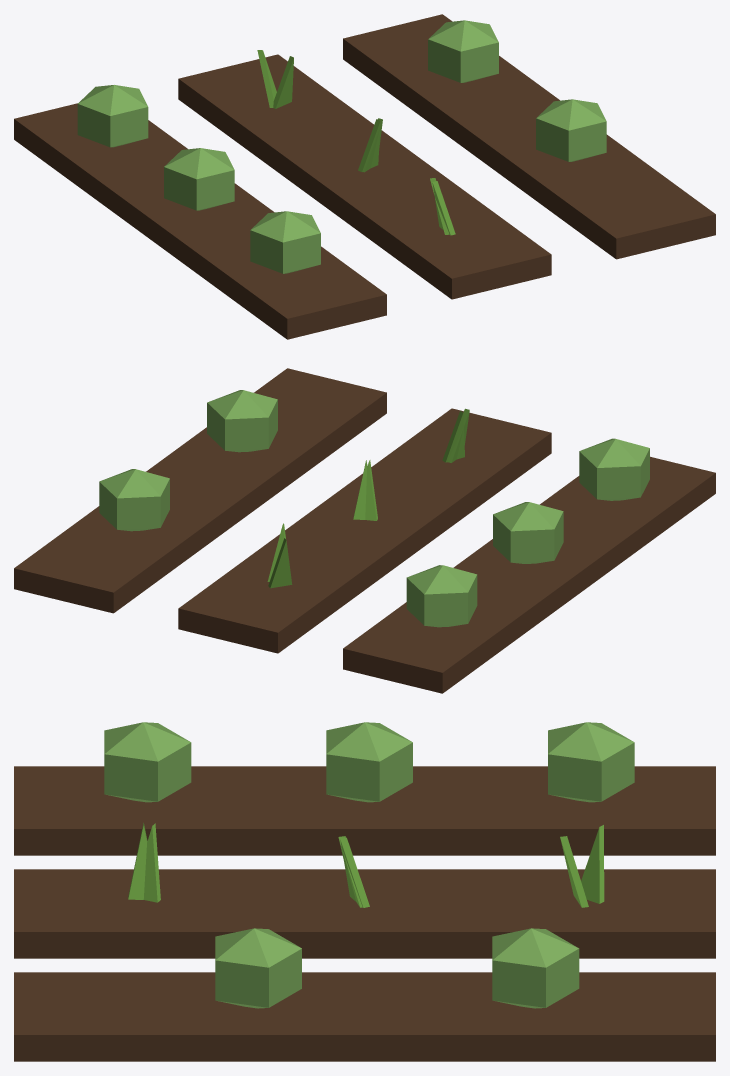
Rendered from crop_vegetables_2.glb.
3 views of the same model, one above another, from view 1: azimuth 30°, elevation 25°; view 2: azimuth 150°, elevation 25°; view 3: azimuth 270°, elevation 25° (orthographic). The views are drawn at different scales.
Visible parts, largest first — view 1: crop_vegetables_2; view 2: crop_vegetables_2; view 3: crop_vegetables_2.
Boxes of the visible parts, x1,y1,x2,y2 form: crop_vegetables_2: [14, 14, 715, 339]; crop_vegetables_2: [14, 368, 715, 693]; crop_vegetables_2: [14, 722, 715, 1061].
Size of the model in its own units: 1.72 by 0.305 by 1.9.
